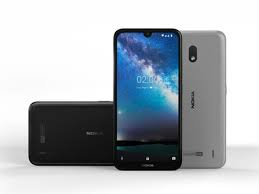nokia: (111, 23, 182, 177), (182, 27, 229, 171), (26, 99, 112, 167)
